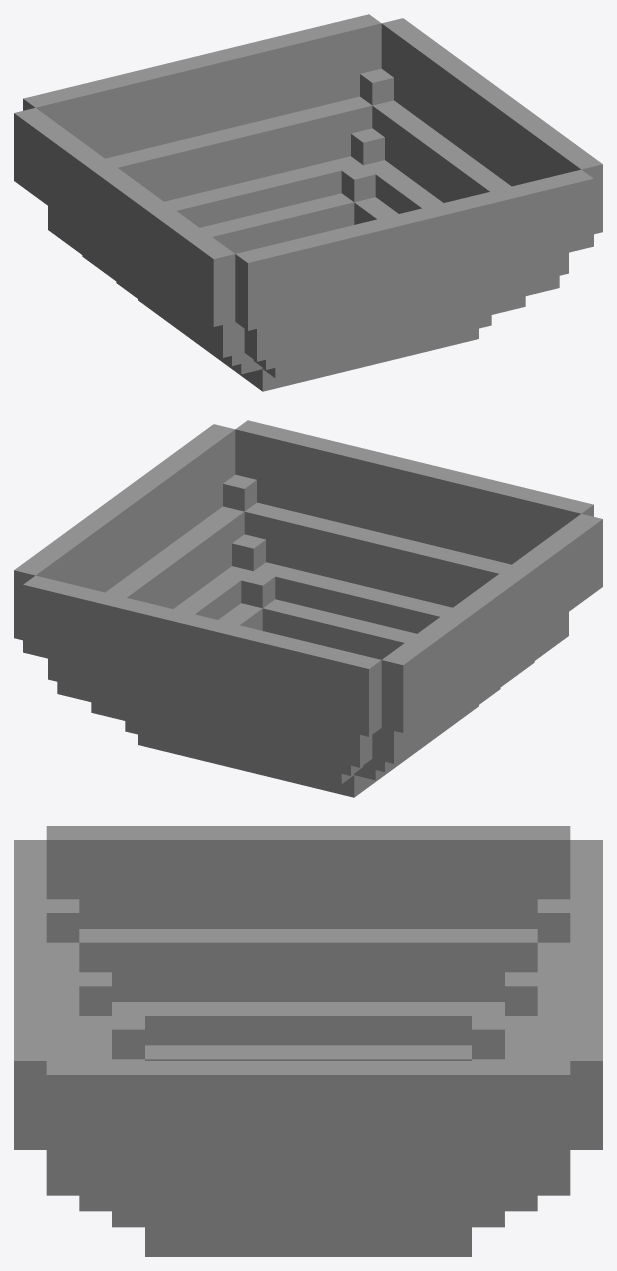
Rendered from castron.fbx.
3 views of the same model, one above another, from view 1: azimuth 30°, elevation 25°; view 2: azimuth 150°, elevation 25°; view 3: azimuth 270°, elevation 25° (orthographic). The views are drawn at different scales.
Visible parts, largest first — view 1: cube_21, cube_22, cube_24, cube_23, cube_14, cube_13, cube_16, cube_6, cube_15, cube_3, cube, cube_5 (+8 smaller); view 2: cube_22, cube_21, cube_24, cube_23, cube_13, cube_14, cube_16, cube_5, cube_15, cube_4, cube, cube_6 (+8 smaller); view 3: cube_23, cube_24, cube_15, cube_16, cube_8, cube_21, cube_22, cube_7, cube, cube_1, cube_2, cube_13 (+9 smaller).
Part boxes in pixels (left/top/right/bottom): cube_21: left=235, top=169, right=593, bottom=330; cube_22: left=23, top=14, right=381, bottom=158; cube_24: left=14, top=108, right=235, bottom=326; cube_23: left=381, top=18, right=602, bottom=234; cube_14: left=105, top=96, right=372, bottom=201; cube_13: left=244, top=255, right=559, bottom=361; cube_16: left=372, top=100, right=568, bottom=275; cube_6: left=164, top=156, right=362, bottom=227; cube_15: left=48, top=206, right=244, bottom=357; cube_3: left=200, top=193, right=354, bottom=253; cube: left=138, top=299, right=478, bottom=391; cube_5: left=253, top=296, right=525, bottom=369; cube_22: left=23, top=575, right=381, bottom=736; cube_21: left=235, top=420, right=593, bottom=564; cube_24: left=381, top=514, right=602, bottom=732; cube_23: left=14, top=424, right=235, bottom=640; cube_13: left=244, top=502, right=511, bottom=607; cube_14: left=57, top=661, right=372, bottom=767; cube_16: left=48, top=506, right=244, bottom=681; cube_5: left=254, top=562, right=452, bottom=633; cube_15: left=372, top=612, right=568, bottom=763; cube_4: left=262, top=599, right=416, bottom=659; cube: left=138, top=705, right=478, bottom=797; cube_6: left=91, top=702, right=363, bottom=775; cube_23: left=46, top=1061, right=570, bottom=1163; cube_24: left=46, top=826, right=570, bottom=928; cube_15: left=79, top=929, right=537, bottom=1001; cube_16: left=79, top=1164, right=537, bottom=1209; cube_8: left=112, top=1002, right=504, bottom=1045; cube_21: left=14, top=840, right=46, bottom=1149; cube_22: left=570, top=840, right=602, bottom=1149; cube_7: left=112, top=1209, right=504, bottom=1225; cube: left=145, top=1241, right=471, bottom=1256; cube_1: left=145, top=1045, right=471, bottom=1060; cube_2: left=145, top=1225, right=471, bottom=1240; cube_13: left=46, top=942, right=79, bottom=1195.
Size of the model in its own units: 112 by 50 by 112.
Materials: 1 (1 with a texture image).
